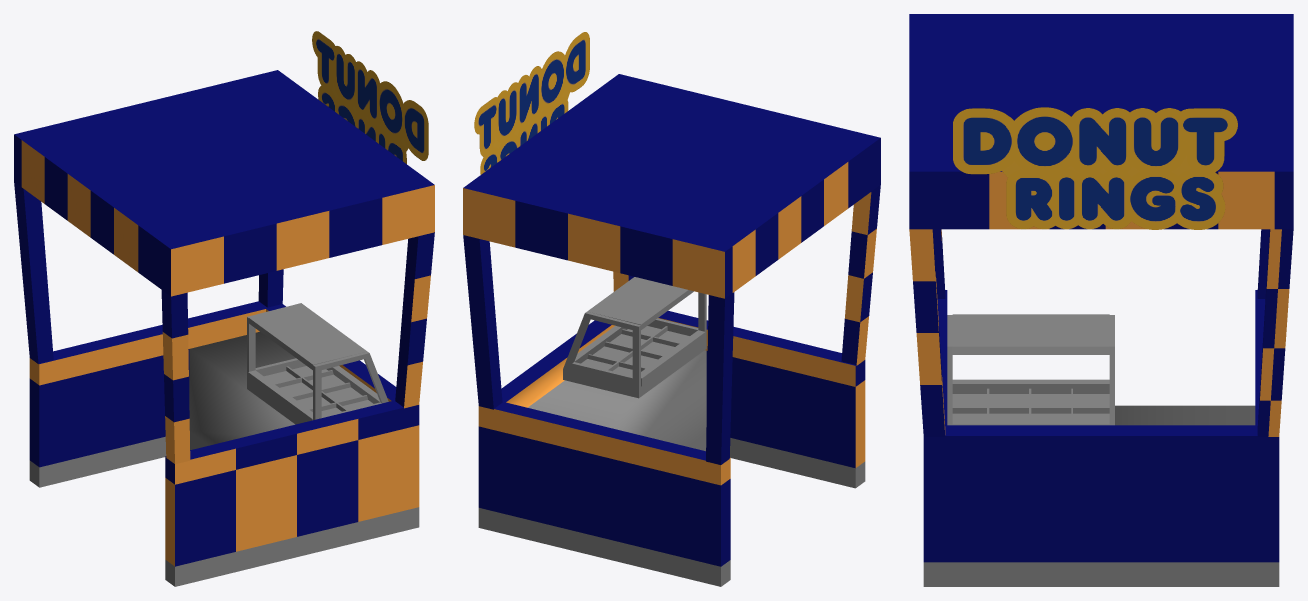
File: FoodStall_DonutRings.fbx
The picture shows the model from 3 angles, left to right: view 1: azimuth 30°, elevation 25°; view 2: azimuth 150°, elevation 25°; view 3: azimuth 270°, elevation 25°; orthographic projection. The views are drawn at different scales.
Visible parts, largest first — view 1: DonutRings, Cube.069, Cube.070; view 2: DonutRings, Cube.069, Cube.070; view 3: DonutRings, Cube.070, Cube.069.
Boxes of the visible parts, <box> form: DonutRings: <box>14,70,434,586</box>; Cube.069: <box>247,303,388,424</box>; Cube.070: <box>312,31,428,163</box>; DonutRings: <box>463,74,880,586</box>; Cube.069: <box>563,277,706,398</box>; Cube.070: <box>474,32,589,174</box>; DonutRings: <box>909,14,1293,586</box>; Cube.070: <box>953,107,1237,229</box>; Cube.069: <box>947,314,1114,425</box>.
Bounding box in the file's own units: 778 × 1114 × 769.
Materials: 4 (1 with a texture image).
